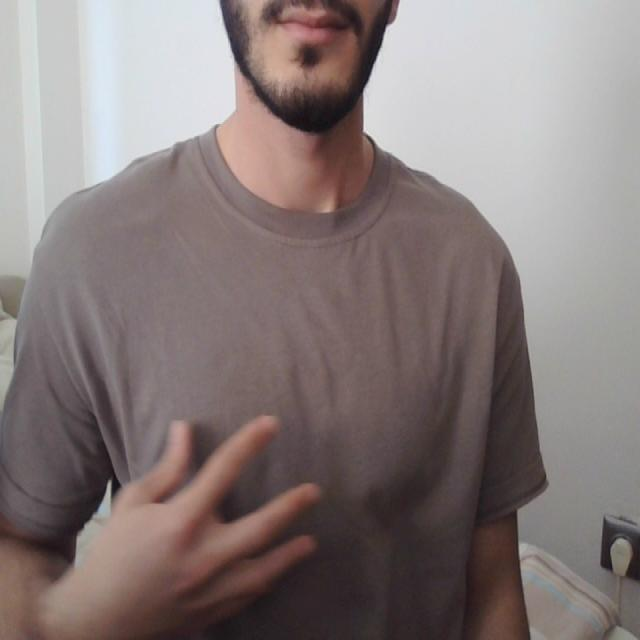Anne: (80, 398, 499, 638)
